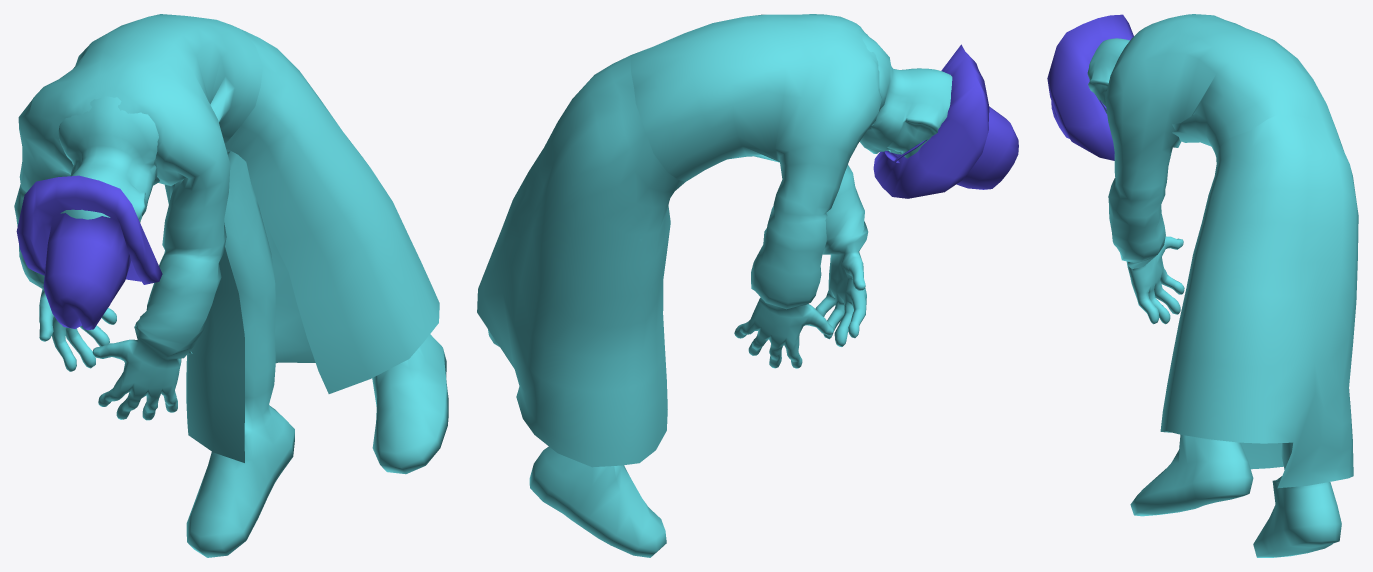
The model's file is Buddy_MGSV.fbx.
The picture shows the model from 3 angles, left to right: view 1: azimuth 30°, elevation 25°; view 2: azimuth 150°, elevation 25°; view 3: azimuth 270°, elevation 25°; orthographic projection. The views are drawn at different scales.
Parts seen in each view (by area): view 1: Buddy.003; view 2: Buddy.003; view 3: Buddy.003.
Boxes of the visible parts, x1,y1,x2,y2 form: Buddy.003: (14, 14, 448, 557); Buddy.003: (477, 14, 1018, 557); Buddy.003: (1047, 14, 1358, 557).
Bounding box in the file's own units: 1.08 × 1.22 × 0.7045.
